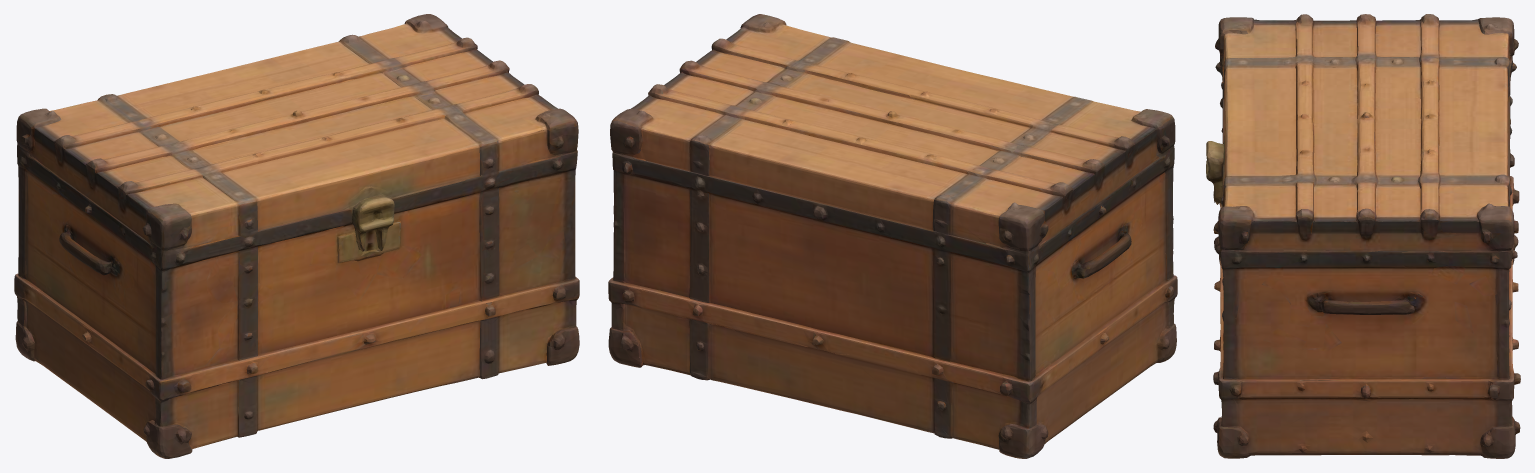
The model's file is trunk.glb.
The picture shows the model from 3 angles, left to right: view 1: azimuth 30°, elevation 25°; view 2: azimuth 150°, elevation 25°; view 3: azimuth 270°, elevation 25°; orthographic projection.
Visible parts, largest first — view 1: geometry_0; view 2: geometry_0; view 3: geometry_0.
Part boxes in pixels (x1,y1,x2,y2): geometry_0: (14,14,579,458); geometry_0: (608,14,1177,458); geometry_0: (1206,14,1520,458).
Size of the model in its own units: 0.9981 by 0.5356 by 0.618.
Materials: 1 (1 with a texture image).
